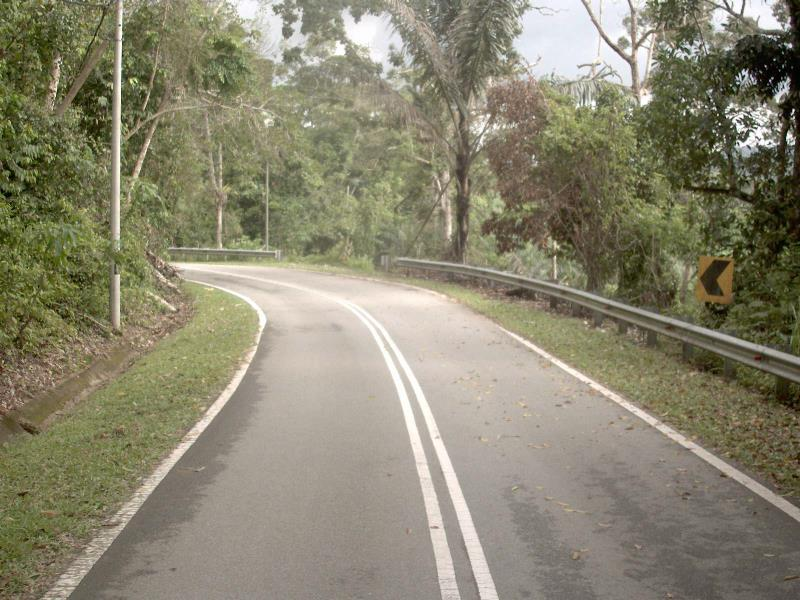traffic_sign: (687, 245, 744, 317)
